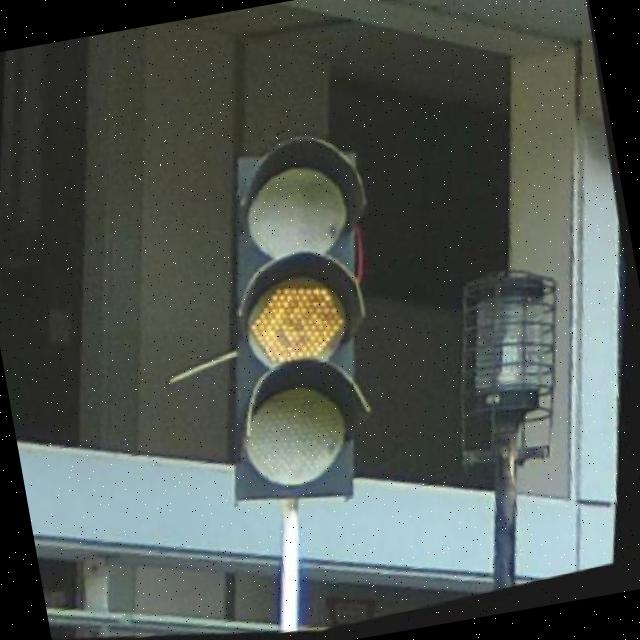yellow_light: (163, 113, 443, 533)
